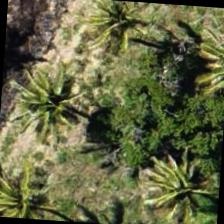Kelapa_Sawit: (0, 55, 95, 152), (127, 140, 223, 223), (67, 0, 162, 67), (0, 154, 58, 221)
